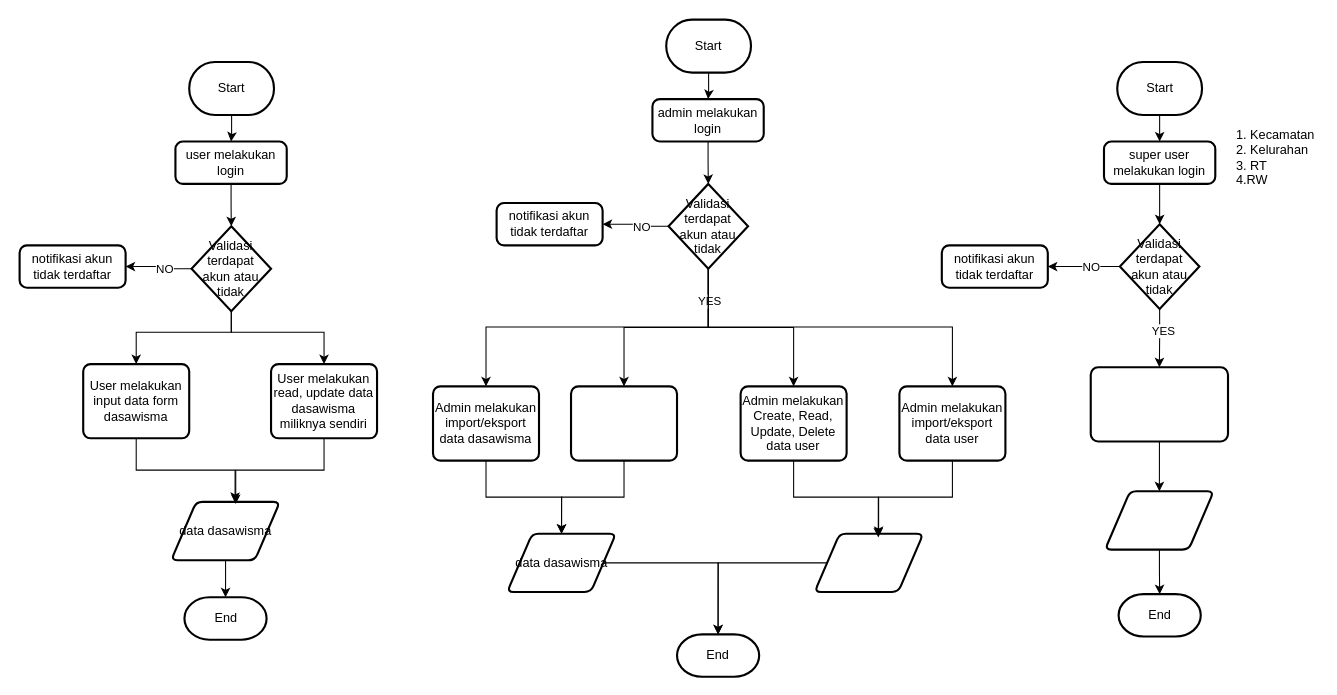
Some shapes in this 1337 by 695 pixel diagram are drawn without their labels. Here are the shapes that lost their labels. From the top down, the centre of each, then its label:
At (623,423): "Admin melakukan Create, Read, Update, Delete data dasawisma".
At (1159,404): "Super user melakukan Read, eksport, data dasawisma milik daerahnya sendiri".
At (1158,520): "data dasawisma perdaerah".
At (868,562): "data user".
